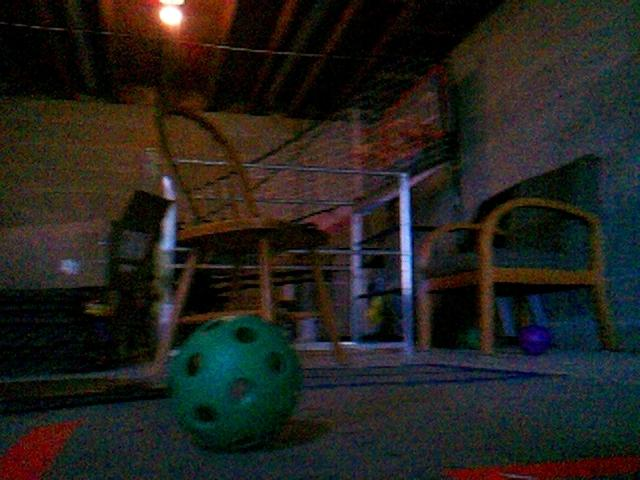Green: (165, 313, 304, 449), (456, 325, 481, 349)
Purple: (516, 322, 553, 355)
